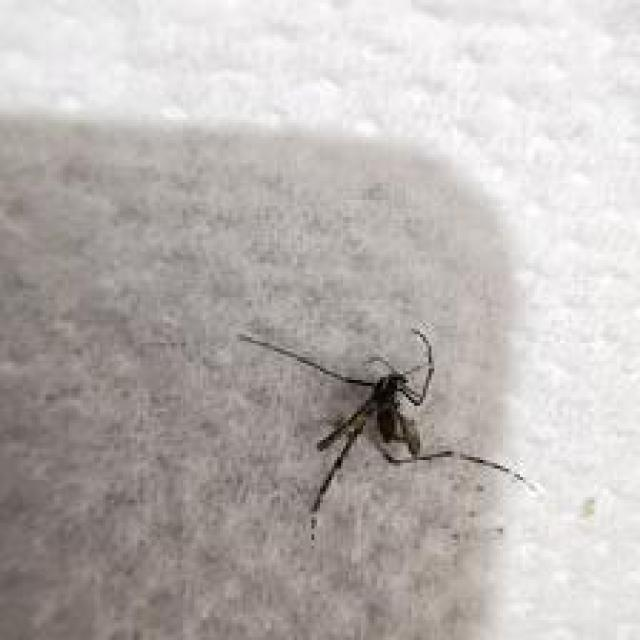Aedes albopictus: (236, 324, 544, 544)
